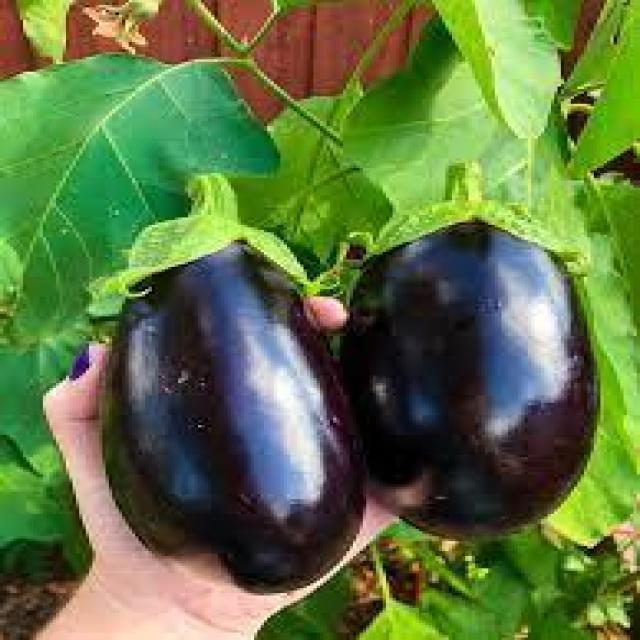Eggplant: (102, 245, 366, 593), (354, 220, 598, 543)
